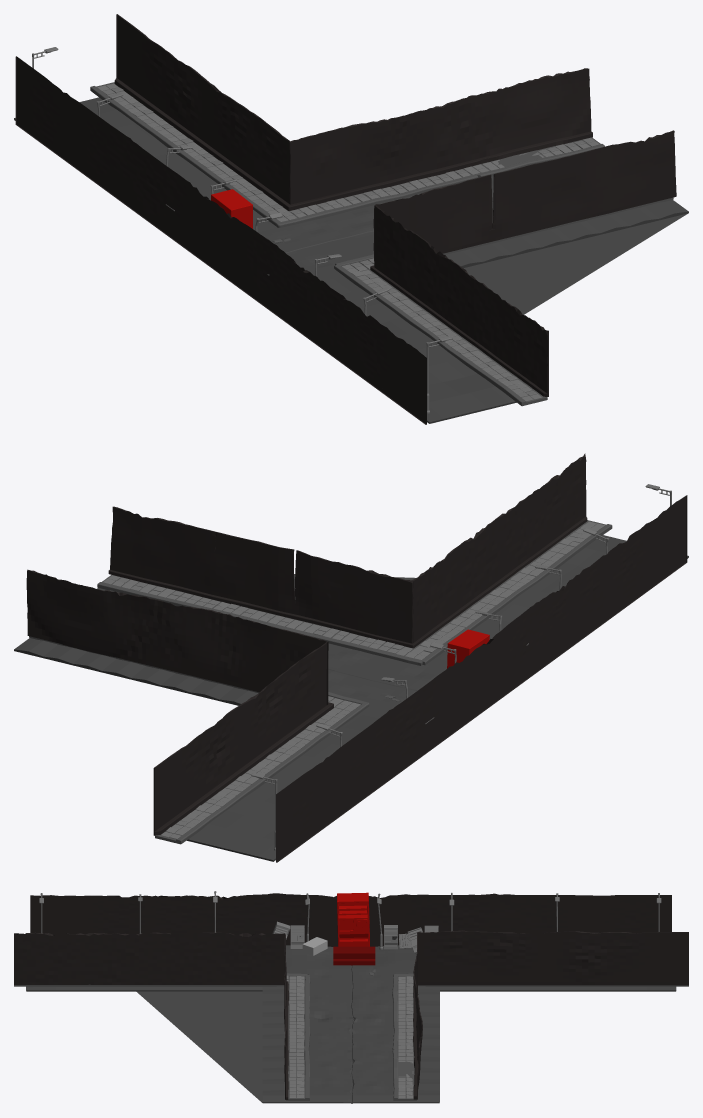
File: VEND Stage_01.fbx
The picture shows the model from 3 angles, top to bottom: view 1: azimuth 30°, elevation 25°; view 2: azimuth 150°, elevation 25°; view 3: azimuth 270°, elevation 25°; orthographic projection. The views are drawn at different scales.
Parts seen in each view (by area): view 1: Plane.009, Plane.003, Plane.001, Plane.286, Plane.004, Plane.005, Cube.044; view 2: Plane.003, Plane.009, Plane.001, Plane.286, Plane.005, Plane.004, Cube.044; view 3: Plane.286, Plane.001, Plane.009, Plane.003, Plane.004, Cube.044, Plane.005, Cube, Cube.025, Cube.007, Cube.030.
Boxes of the visible parts, x1,y1,x2,y2 form: Plane.009: [114, 14, 592, 210]; Plane.003: [370, 130, 676, 396]; Plane.001: [15, 56, 426, 424]; Plane.286: [14, 97, 688, 423]; Plane.004: [90, 82, 604, 227]; Plane.005: [334, 197, 673, 406]; Cube.044: [211, 189, 252, 228]; Plane.003: [108, 453, 587, 648]; Plane.009: [26, 569, 333, 835]; Plane.001: [276, 495, 687, 862]; Plane.286: [14, 535, 688, 861]; Plane.005: [97, 520, 612, 665]; Plane.004: [29, 636, 369, 844]; Cube.044: [447, 629, 489, 668]; Plane.286: [26, 945, 676, 1103]; Plane.001: [30, 893, 671, 946]; Plane.009: [413, 930, 688, 1099]; Plane.003: [14, 932, 288, 1099]; Plane.004: [392, 973, 688, 1100]; Cube.044: [337, 892, 369, 946]; Plane.005: [14, 973, 310, 1100]; Cube: [333, 946, 375, 965]; Cube.025: [302, 937, 327, 955]; Cube.007: [384, 925, 397, 949]; Cube.030: [290, 925, 304, 948].
Size of the model in its own units: 5296 by 944 by 9549.
